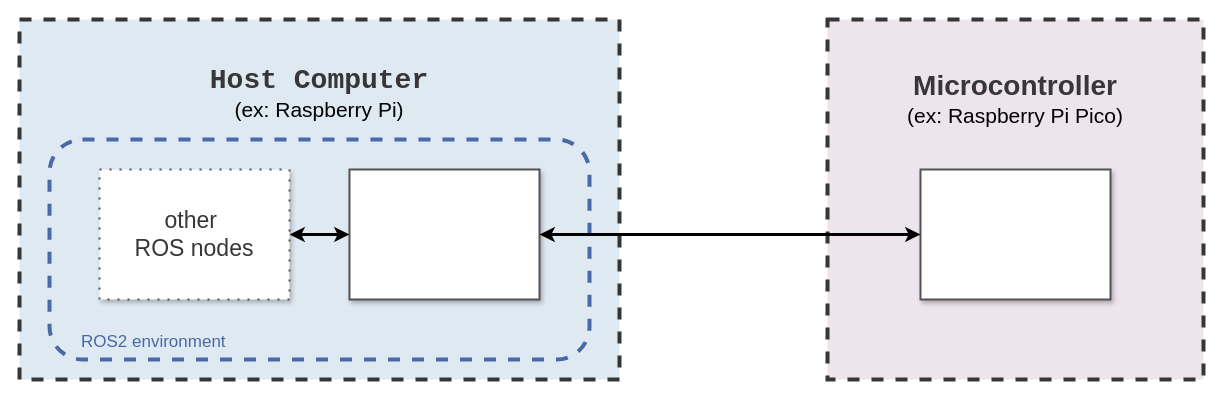
Some shapes in this 1222 by 398 pixel diagram are drawn without their labels. Here are the shapes that lost their labels. From the top down, the centre of each, then its label:
At (x=445, y=235): "micro-ROS agent".
At (x=1016, y=235): "micro-ROS node".
